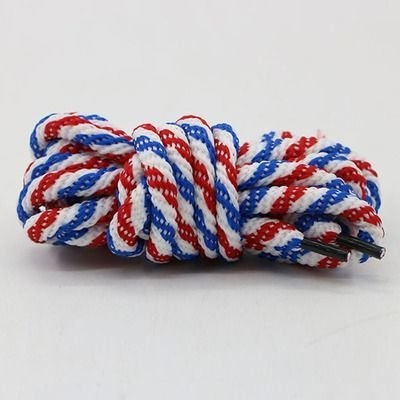9/可回收垃圾/绳子: (16, 112, 388, 273)
